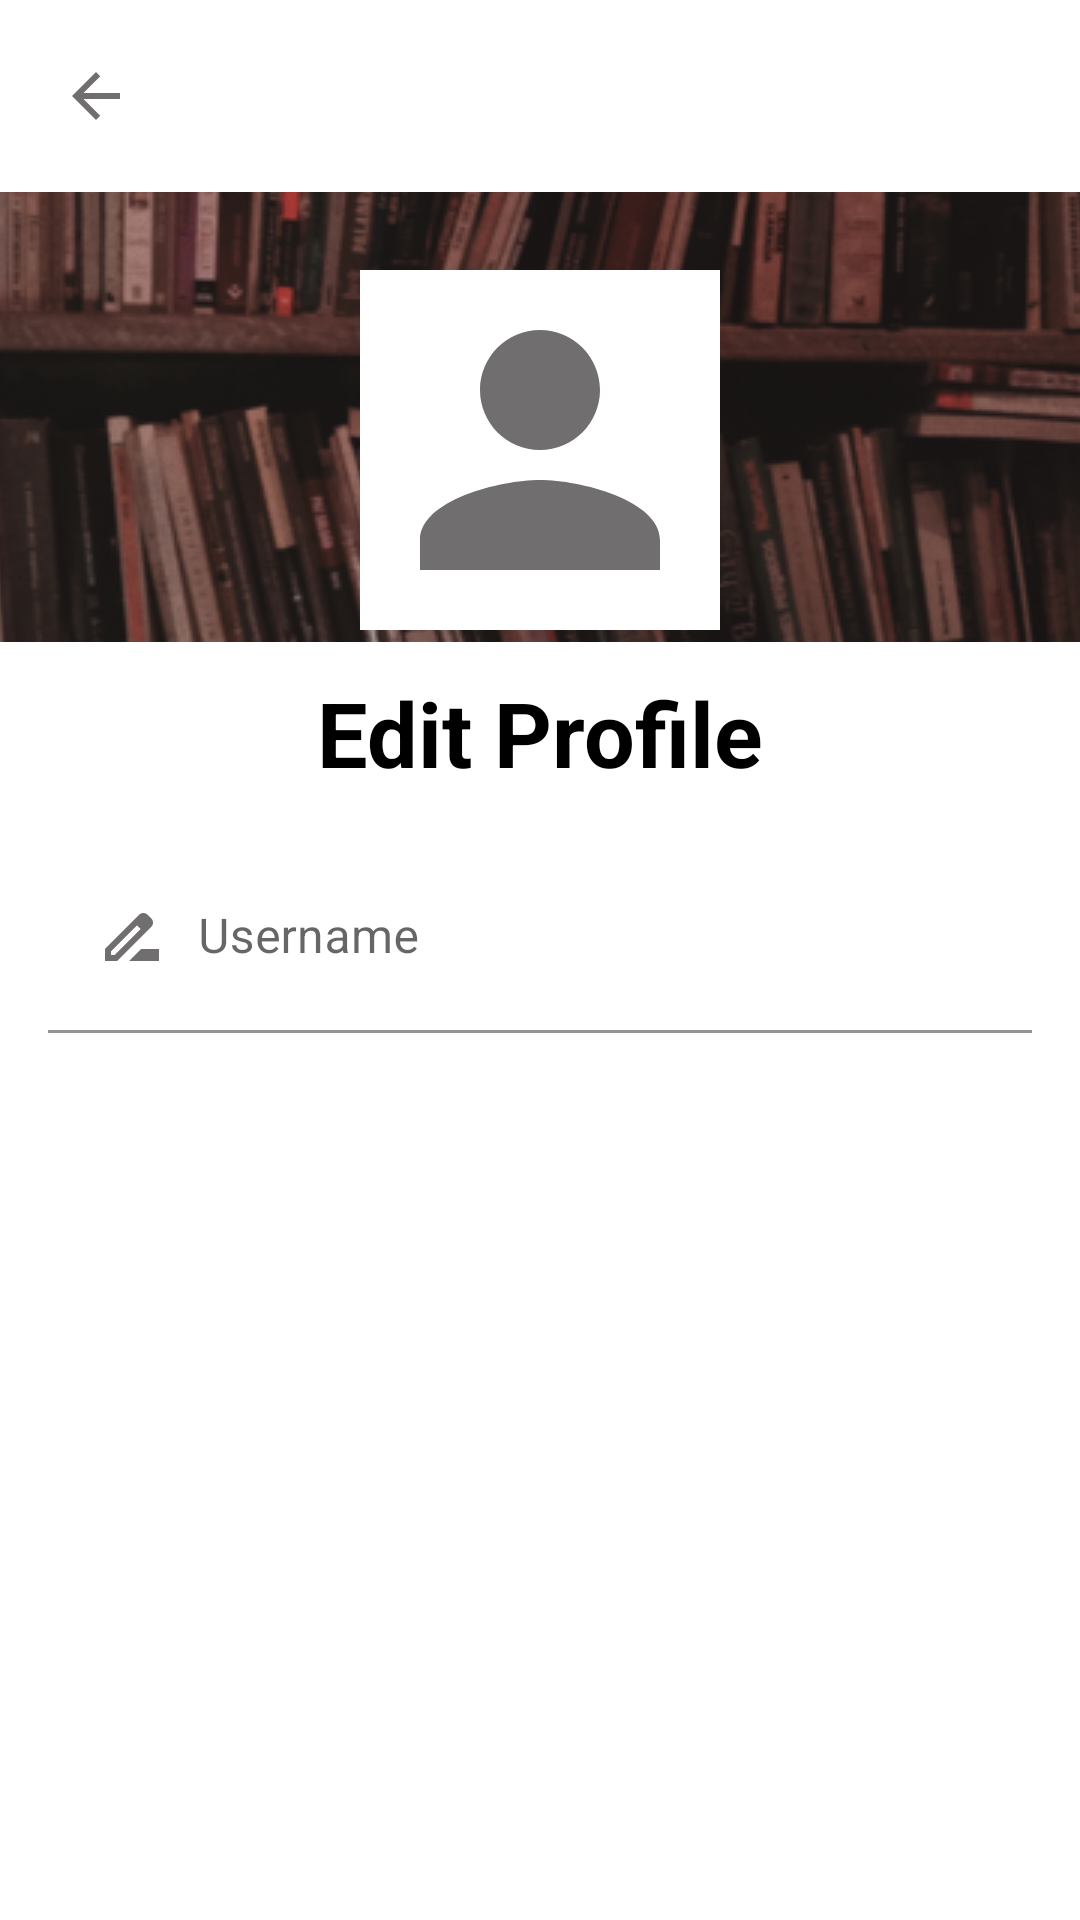

Icon click points for this 1080 × 1920 phone screenshot, format point (x, y):
back: point (96, 96)
person: point (540, 450)
